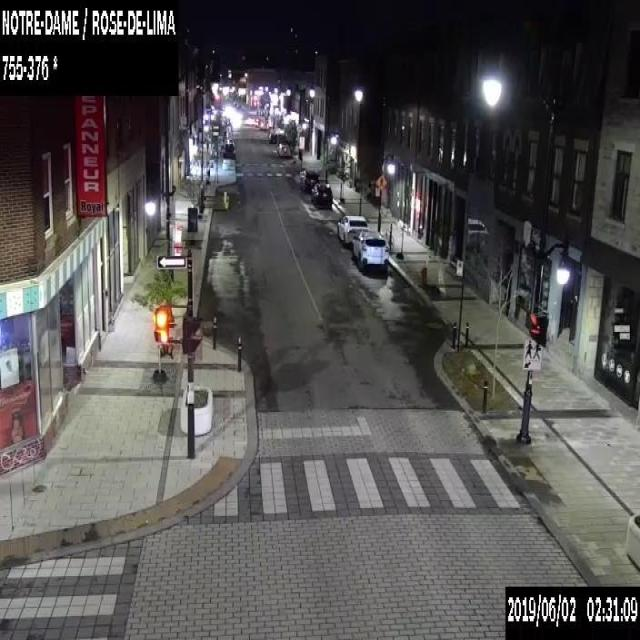vehicle: (351, 228, 388, 265), (336, 214, 366, 242), (311, 183, 332, 207), (299, 169, 318, 190), (222, 138, 235, 157), (278, 145, 290, 156), (276, 142, 287, 152), (268, 132, 276, 143)
